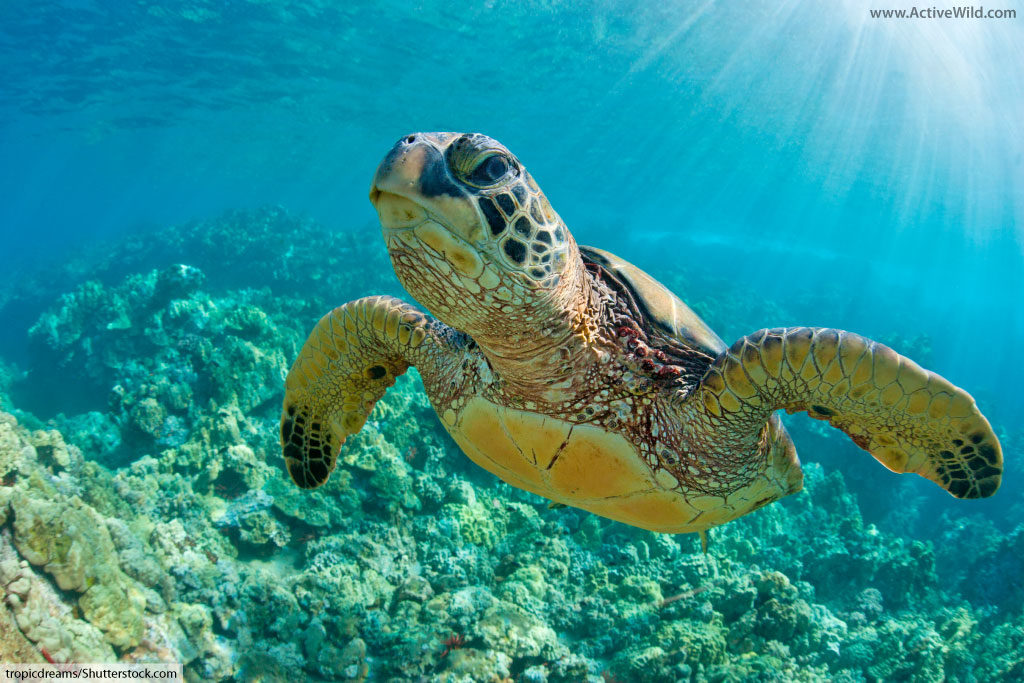turtle: (273, 99, 1010, 551)
